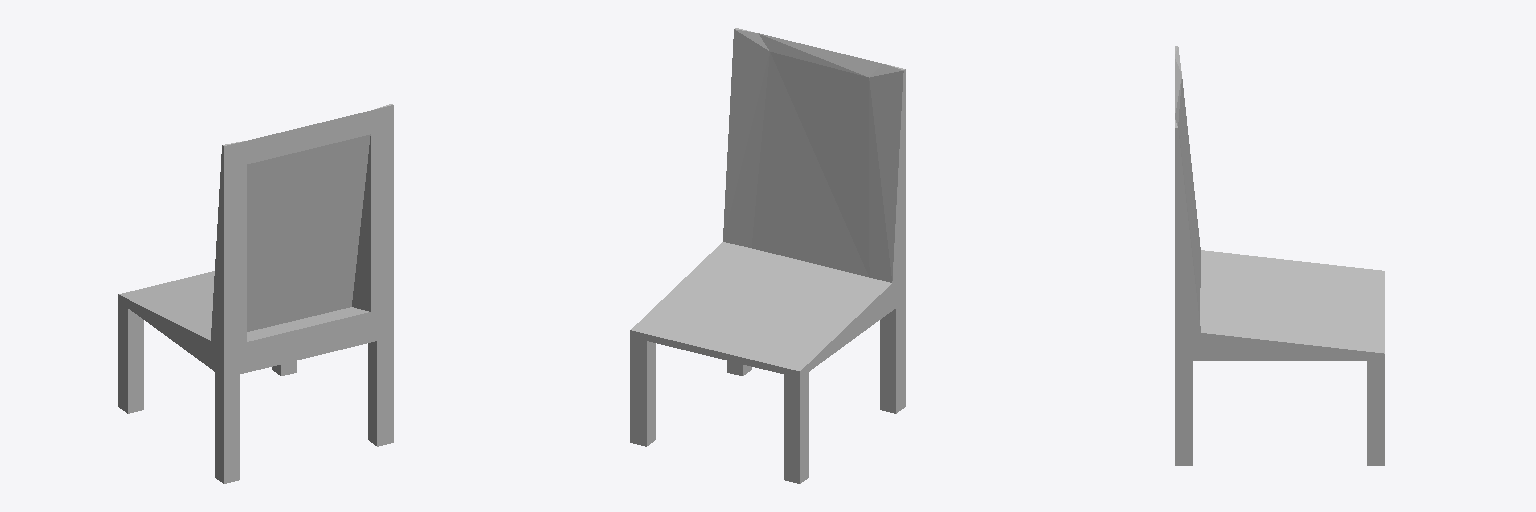
3 renders of one model, left to right at view 1: azimuth 30°, elevation 25°; view 2: azimuth 150°, elevation 25°; view 3: azimuth 270°, elevation 25°, orthographic.
Parts seen in each view (by area): view 1: group[number redacted], group[number redacted], group[number redacted], group[number redacted], group[number redacted], group[number redacted], group[number redacted]; view 2: group[number redacted], group[number redacted], group[number redacted], group[number redacted], group[number redacted], group[number redacted], group[number redacted]; view 3: group[number redacted], group[number redacted], group[number redacted], group[number redacted], group[number redacted].
Boxes of the visible parts, <box> form: group[number redacted]: <box>247,110,373,331</box>; group[number redacted]: <box>118,271,393,377</box>; group[number redacted]: <box>352,104,393,311</box>; group[number redacted]: <box>211,141,246,350</box>; group[number redacted]: <box>368,337,393,446</box>; group[number redacted]: <box>215,372,239,483</box>; group[number redacted]: <box>118,301,143,413</box>; group[number redacted]: <box>752,33,881,277</box>; group[number redacted]: <box>630,242,905,377</box>; group[number redacted]: <box>869,64,905,282</box>; group[number redacted]: <box>723,28,769,247</box>; group[number redacted]: <box>630,337,655,446</box>; group[number redacted]: <box>784,372,808,483</box>; group[number redacted]: <box>880,301,905,413</box>; group[number redacted]: <box>1175,250,1384,360</box>; group[number redacted]: <box>1175,119,1200,332</box>; group[number redacted]: <box>1367,361,1384,465</box>; group[number redacted]: <box>1175,361,1192,465</box>; group[number redacted]: <box>1175,59,1200,313</box>.
Size of the model in its own units: 0.52 by 0.99 by 0.56.